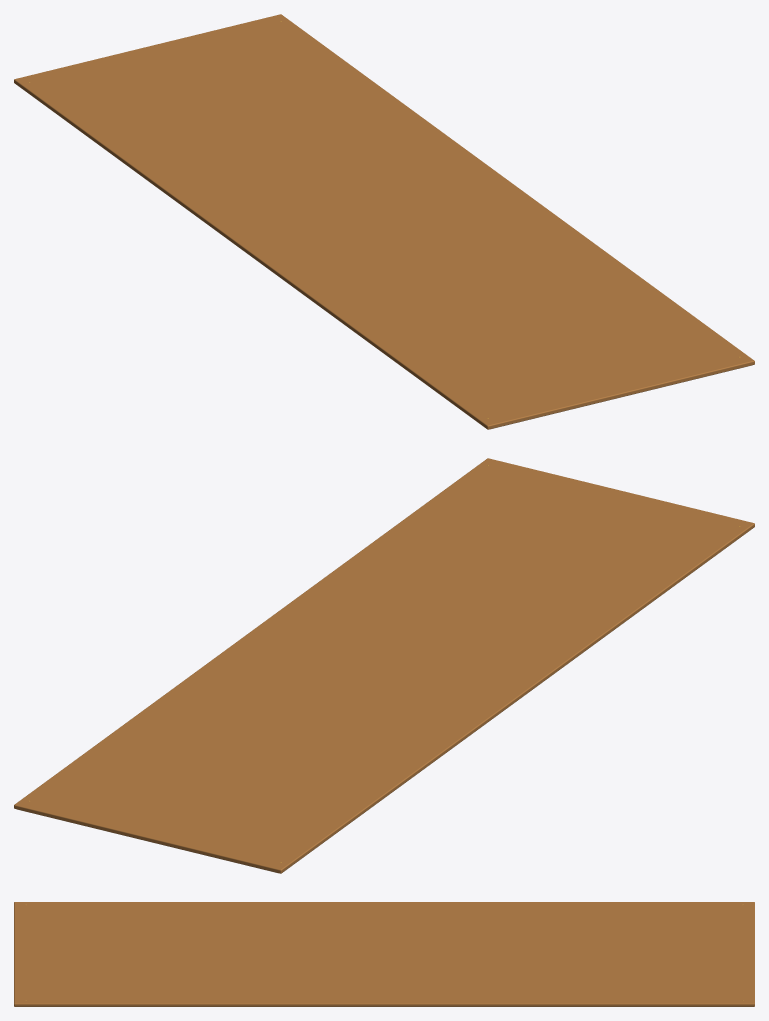
Rendered from counter-board.glb.
3 views of the same model, one above another, from view 1: azimuth 30°, elevation 25°; view 2: azimuth 150°, elevation 25°; view 3: azimuth 270°, elevation 25° (orthographic). The views are drawn at different scales.
Visible parts, largest first — view 1: wood, edge; view 2: wood, edge; view 3: wood, edge.
Boxes of the visible parts, <box> form: wood: <box>14,14,754,429</box>; edge: <box>15,83,751,428</box>; wood: <box>14,458,754,873</box>; edge: <box>17,527,753,872</box>; wood: <box>14,902,754,1006</box>; edge: <box>16,1005,752,1006</box>.
Size of the model in its own units: 10 by 0.156 by 30.67.
